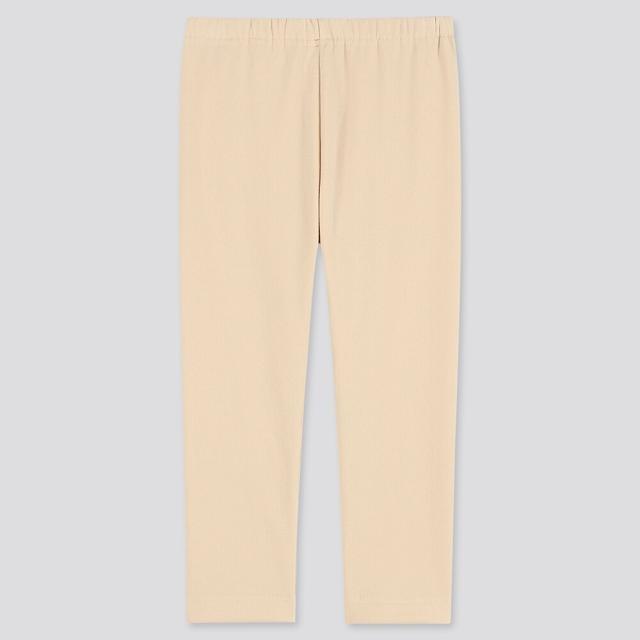long-pants: (178, 16, 461, 631)
